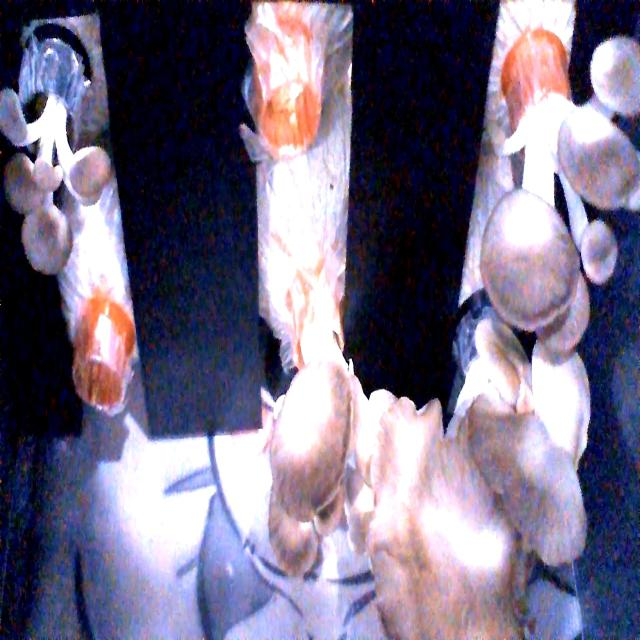big: (358, 323, 596, 640), (484, 51, 640, 346), (257, 304, 392, 579)
nfound: (244, 61, 328, 182), (51, 342, 154, 426)
small: (0, 70, 136, 267)
